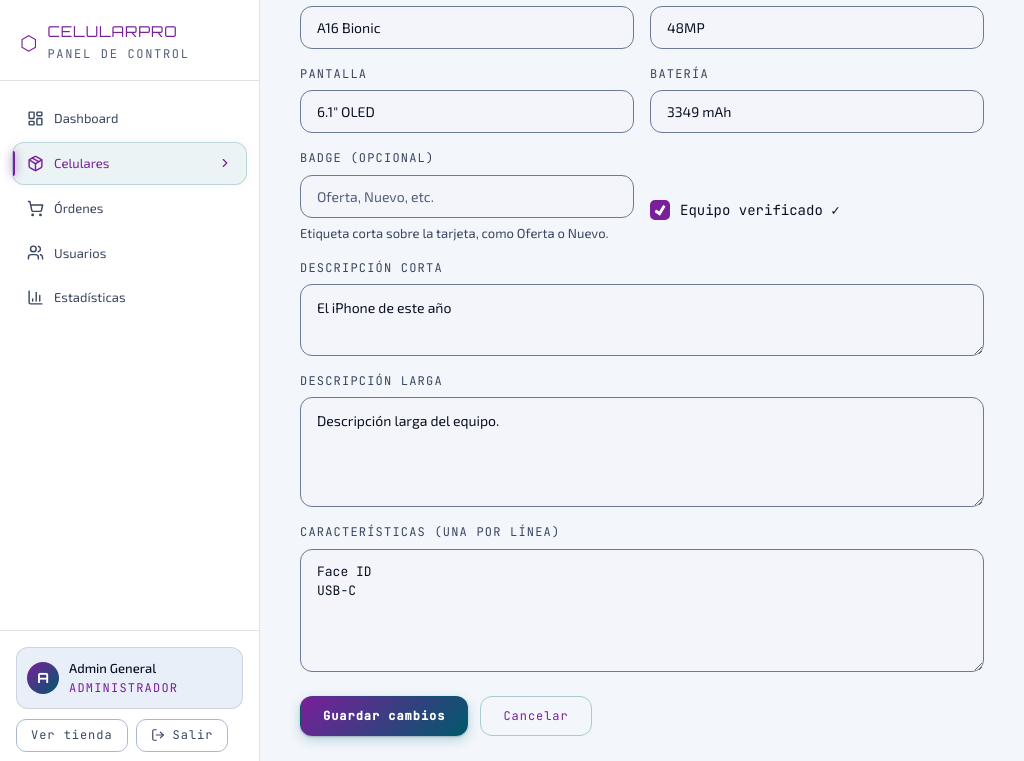
Test: ESC-30 — Administración del catálogo › Camino 7 (1-3-5-7-13-14-19): PUT sobre un id que ya no existe → 404 Celular no encontrado
(page scrolled)
Click the button "Guardar cambios" at (384, 716), box [300, 696, 468, 736]
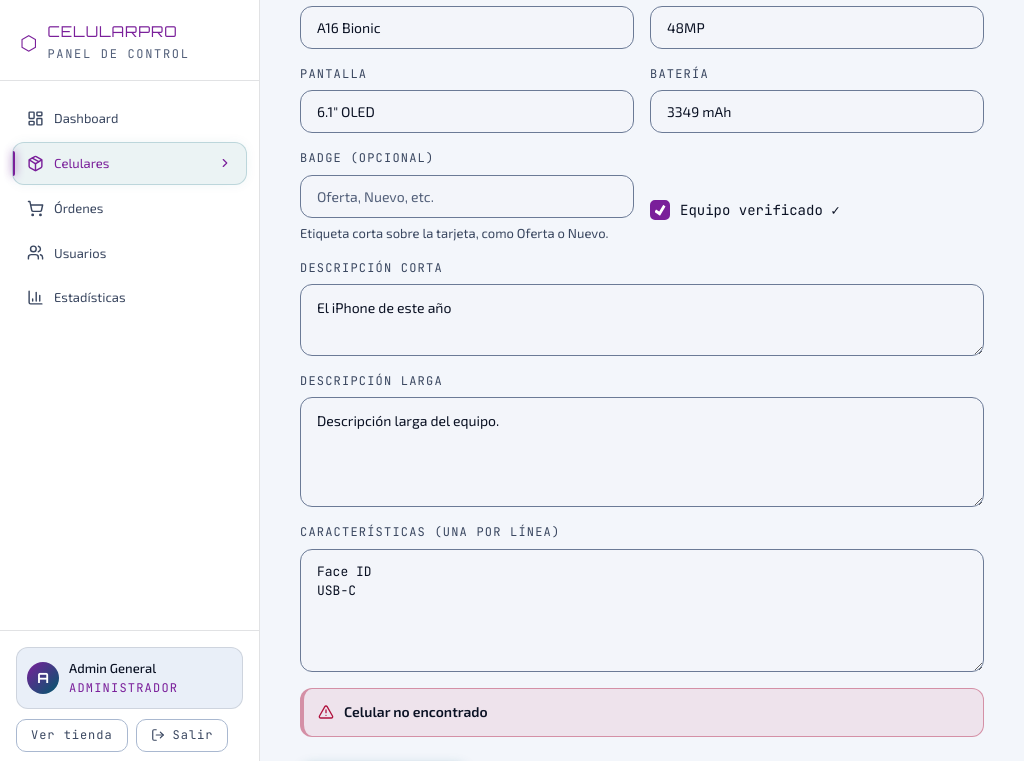
Result: the text "Celular no encontrado" is shown at [344, 701, 488, 724]
